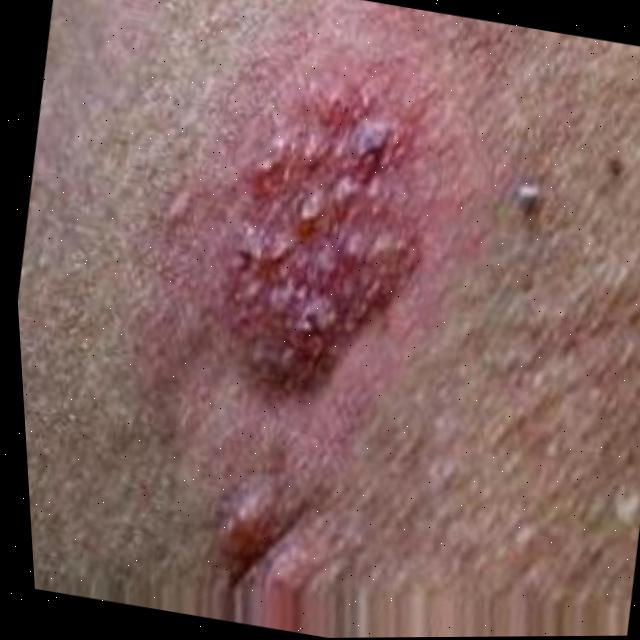Shingles: (200, 88, 438, 431)
